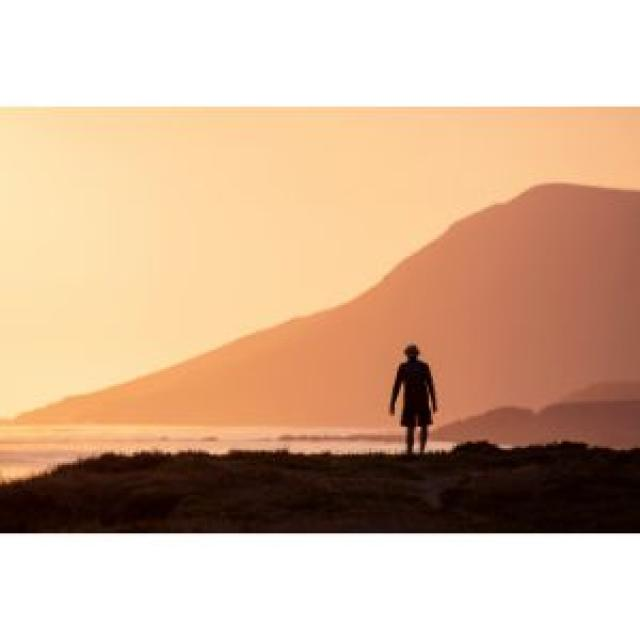nonfall: (391, 343, 446, 462)
